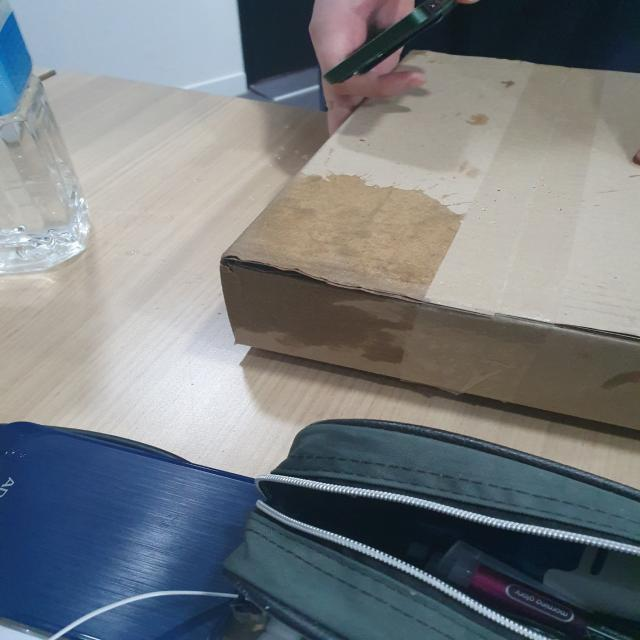hole: (238, 485, 638, 637)
wet: (228, 172, 460, 362)
